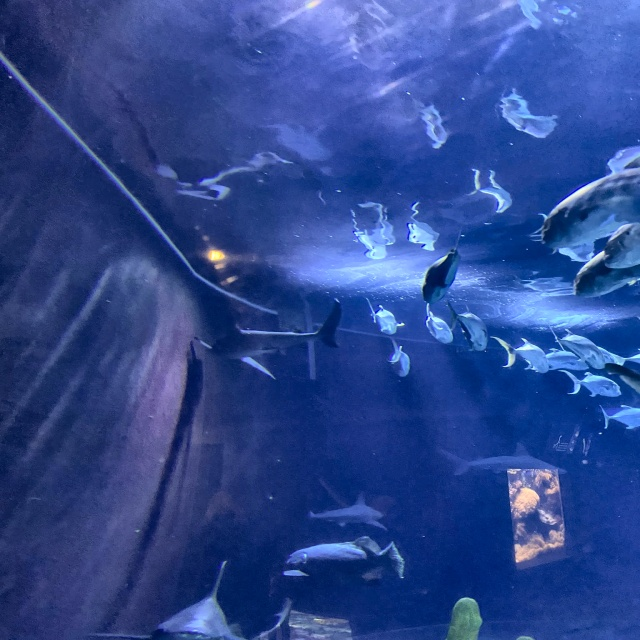fish: (541, 168, 639, 249), (283, 536, 405, 585), (573, 250, 639, 297), (549, 326, 606, 368), (447, 298, 488, 352), (491, 336, 549, 374), (557, 370, 621, 397), (604, 222, 639, 269), (525, 348, 589, 372), (366, 298, 404, 336), (427, 302, 453, 343), (599, 405, 639, 430), (387, 336, 410, 377)
shark: (181, 294, 347, 382), (89, 561, 250, 639), (436, 442, 567, 476), (310, 492, 387, 531)
stingray: (422, 248, 460, 303)
